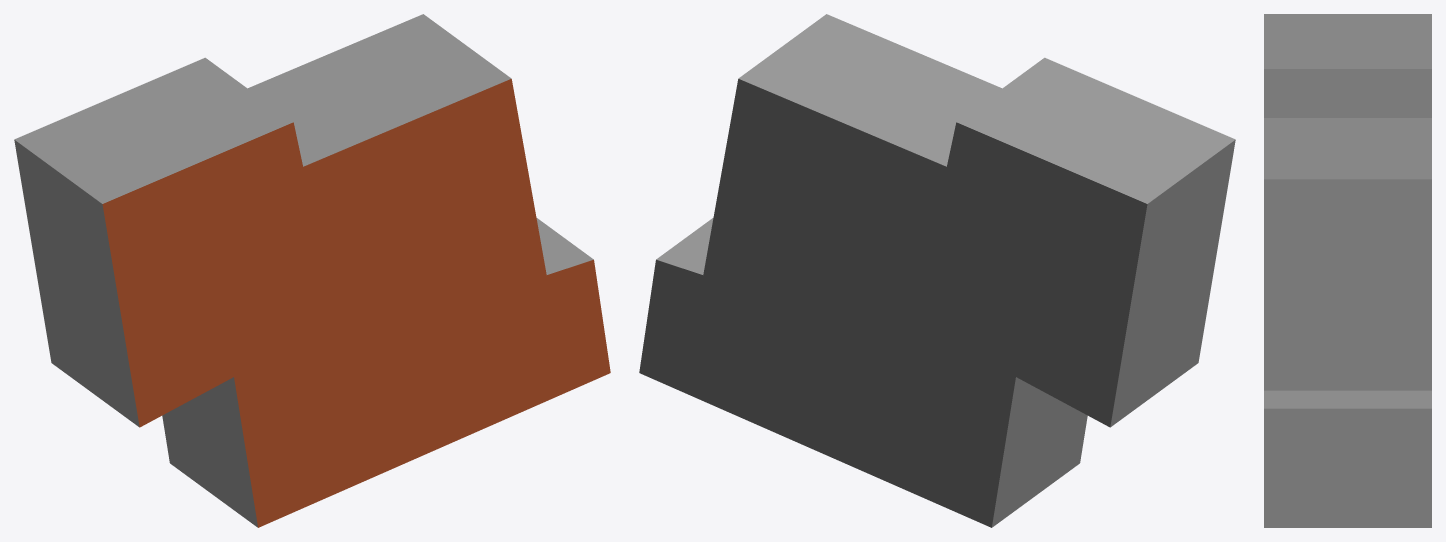
Rendered from construction_6984_assumed_A_Casa_h6m.obj.
The picture shows the model from 3 angles, left to right: view 1: azimuth 30°, elevation 25°; view 2: azimuth 150°, elevation 25°; view 3: azimuth 270°, elevation 25°; orthographic projection. The views are drawn at different scales.
Parts seen in each view (by area): view 1: construction_6984_assumed_A_Casa; view 2: construction_6984_assumed_A_Casa; view 3: construction_6984_assumed_A_Casa.
Boxes of the visible parts, x1,y1,x2,y2 form: construction_6984_assumed_A_Casa: (14, 14, 610, 527); construction_6984_assumed_A_Casa: (639, 14, 1235, 527); construction_6984_assumed_A_Casa: (1264, 14, 1431, 527).
Size of the model in its own units: 19.94 by 14.89 by 6.
